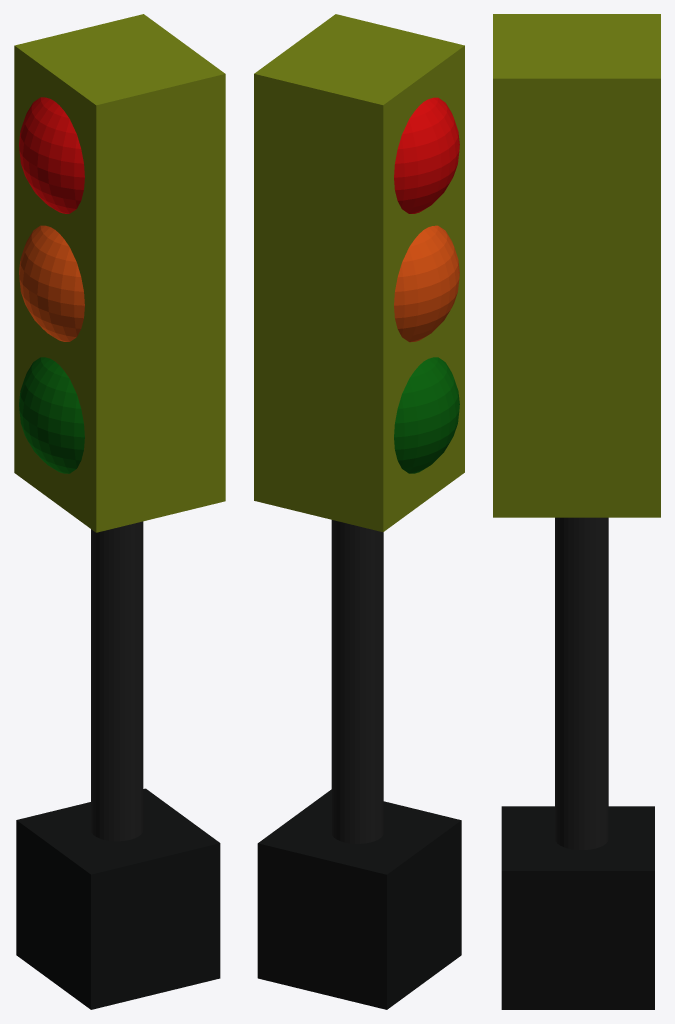
File: Semaforo.obj
3 renders of one model, left to right at view 1: azimuth 30°, elevation 25°; view 2: azimuth 150°, elevation 25°; view 3: azimuth 270°, elevation 25°, orthographic. The views are drawn at different scales.
Parts seen in each view (by area): view 1: Cube_Cube.001; view 2: Cube_Cube.001; view 3: Cube_Cube.001.
Boxes of the visible parts, bbox=[...] form: Cube_Cube.001: bbox=[14, 14, 225, 1009]; Cube_Cube.001: bbox=[254, 14, 464, 1009]; Cube_Cube.001: bbox=[493, 14, 660, 1009].
Bounding box in the file's own units: 2.41 × 13.41 × 2.19.
